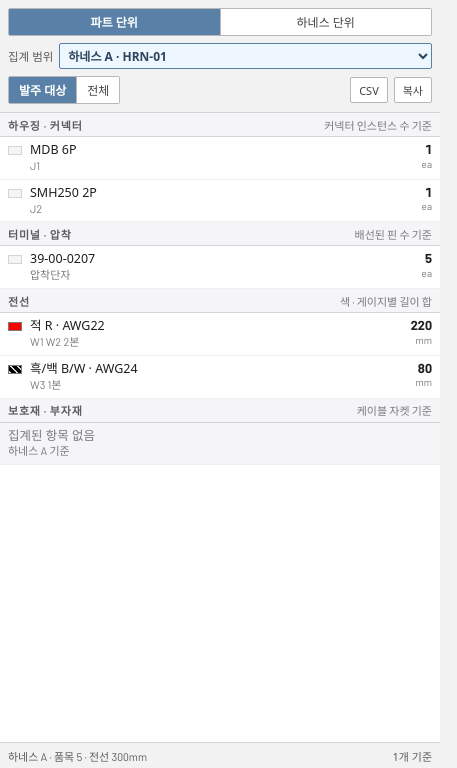
Test: 파트 탭 — 파트 단위 › 발주 대상 | 전체 로 장치(발주 제외) 그룹이 드나든다
Expected: the text "Raspberry Pi" is not shown
What coordinates should you click on to do the following:
click the button "전체"
I would click on:
 (98, 90)
Its box is [76,77,119,103].
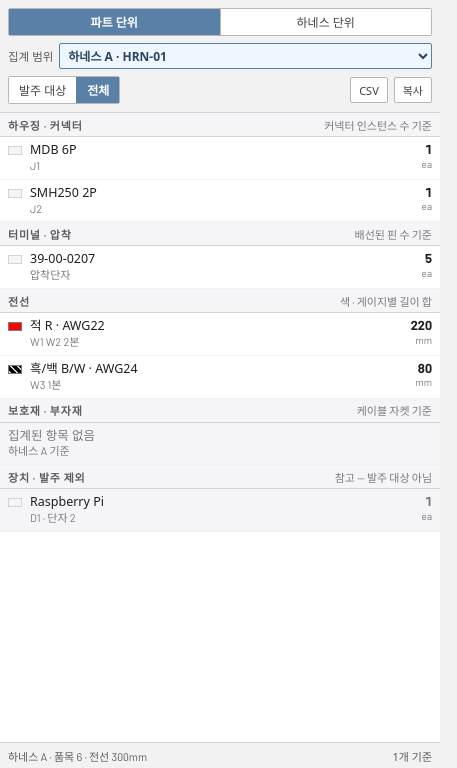
Expected: the text "배선된 핀 수 기준" is shown, [354,226,432,242]
Expected: the text "장치 · 발주 제외" is shown, [8,469,86,485]
Expected: the text "Raspberry Pi" is shown, [30,493,104,510]
